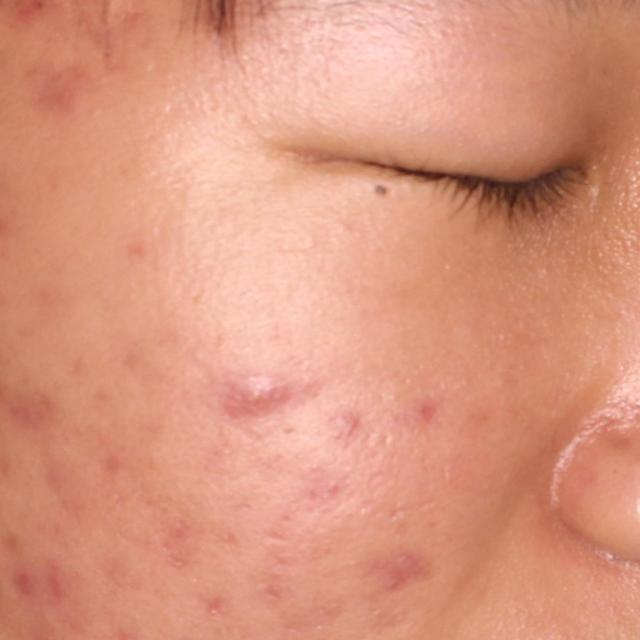nodule: (207, 362, 316, 427), (362, 544, 449, 600)
